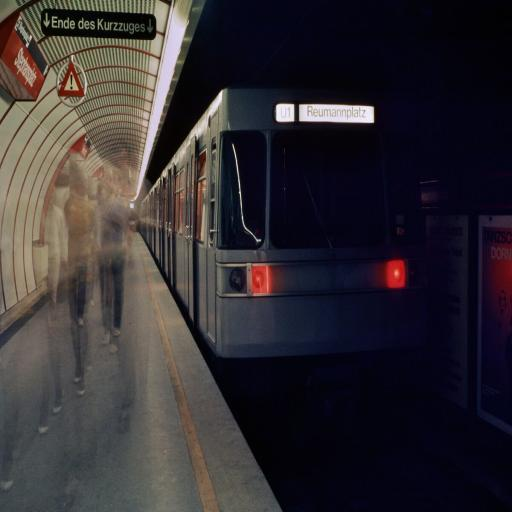Silberpfeil: (141, 86, 423, 364)
